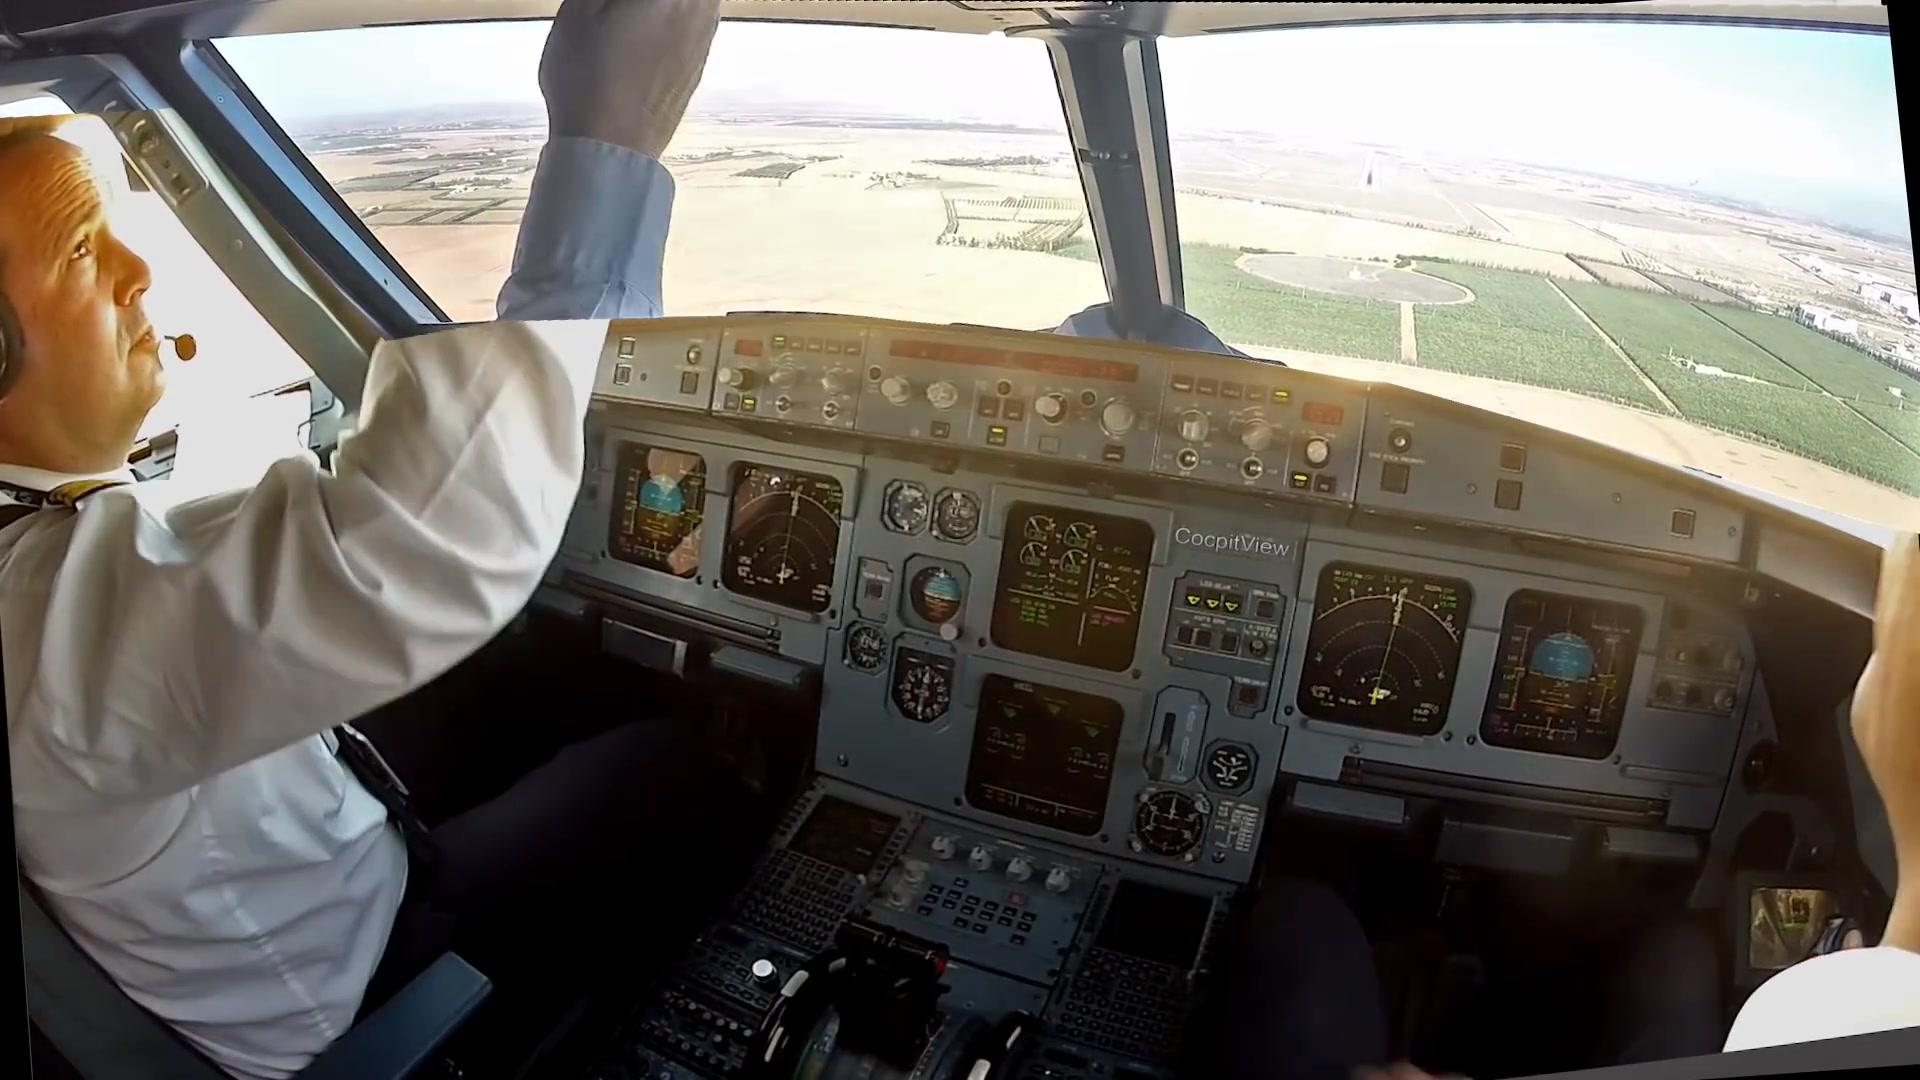runway: (1354, 150, 1383, 194)
